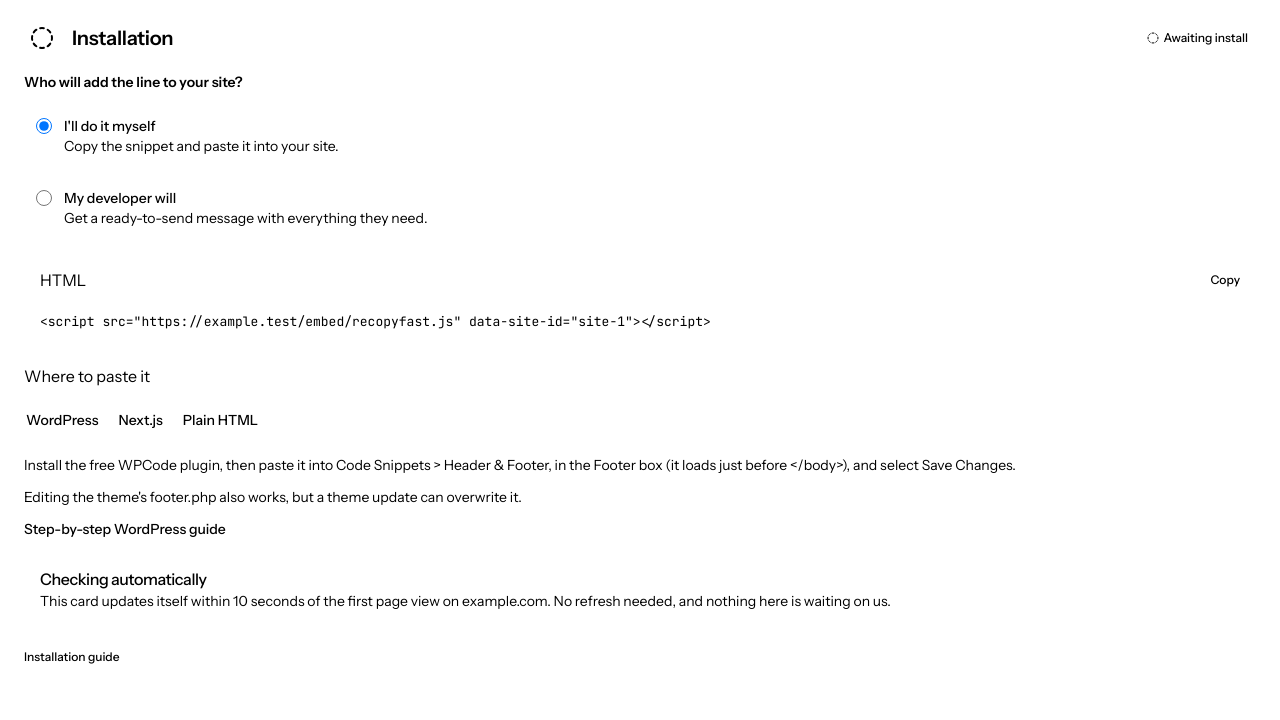
Test: SiteInstallationCard › awaiting install › confirms a copy in place, since there is nowhere else to put it
Click the button with aria-label "copy snippet": (1225, 280) [1198,264,1252,296]
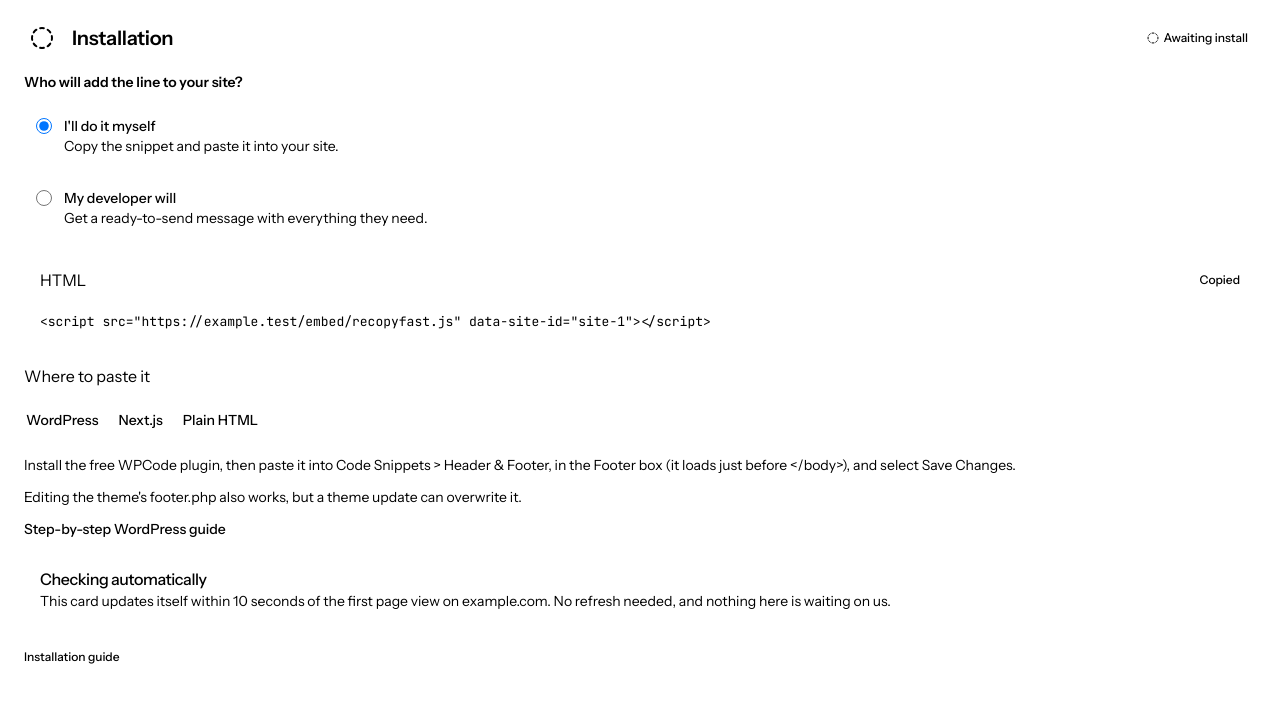
Check: the button with aria-label "copy snippet" reads "Copied", box [1188,264,1252,296]
